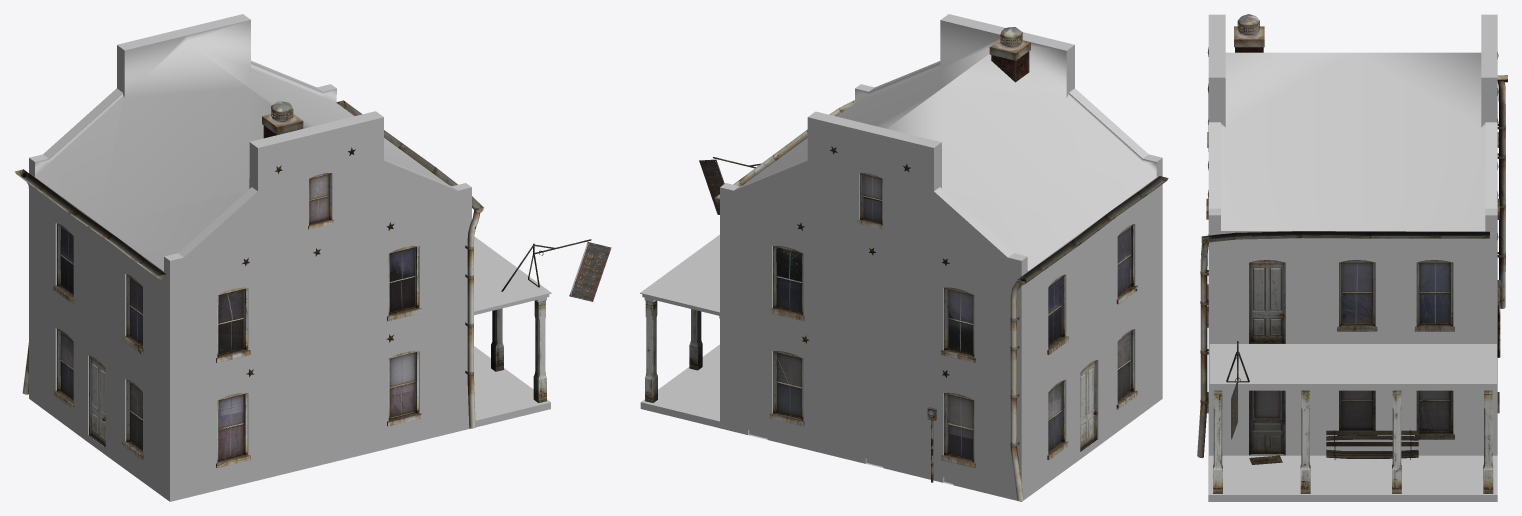
The model's file is 107_Main.fbx.
3 views of the same model, side by side, from view 1: azimuth 30°, elevation 25°; view 2: azimuth 150°, elevation 25°; view 3: azimuth 270°, elevation 25° (orthographic). The views are drawn at different scales.
Parts seen in each view (by area): view 1: Exterior, Trims_EXT, Glass, Trims_EXT_Transparent; view 2: Exterior, Trims_EXT, Glass, Trims_EXT_Transparent; view 3: Exterior, Trims_EXT, Glass, Trims_EXT_Transparent, Plaque.
Boxes of the visible parts, x1,y1,x2,y2 form: Exterior: (29, 14, 551, 501); Trims_EXT: (14, 100, 591, 468); Glass: (60, 174, 414, 459); Trims_EXT_Transparent: (271, 101, 611, 301); Exterior: (640, 14, 1162, 501); Trims_EXT: (645, 39, 1168, 501); Glass: (777, 174, 1130, 459); Trims_EXT_Transparent: (699, 27, 1022, 416); Exterior: (1208, 14, 1497, 501); Trims_EXT: (1197, 26, 1507, 493); Glass: (1254, 263, 1449, 431); Trims_EXT_Transparent: (1231, 14, 1411, 459); Plaque: (1383, 393, 1406, 415).
Bounding box in the file's own units: 304 × 222 × 172.
